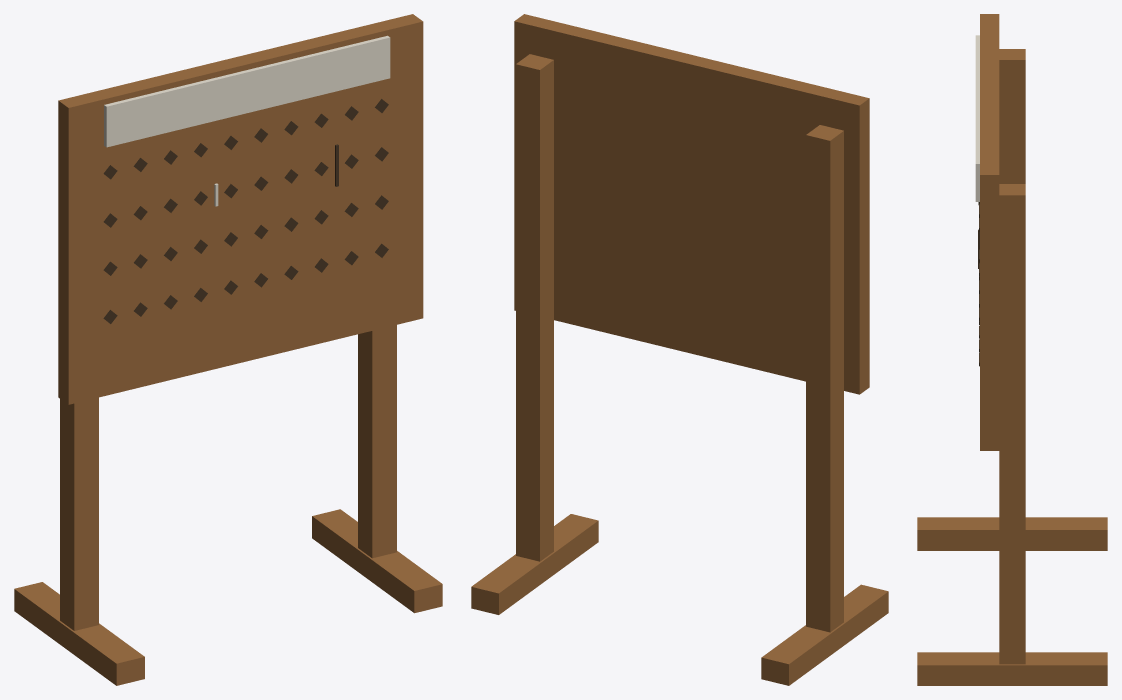
File: Prop_Census_Board_LOD1.glb
The picture shows the model from 3 angles, left to right: view 1: azimuth 30°, elevation 25°; view 2: azimuth 150°, elevation 25°; view 3: azimuth 270°, elevation 25°; orthographic projection. The views are drawn at different scales.
Visible parts, largest first — view 1: Prop_Census_Board; view 2: Prop_Census_Board; view 3: Prop_Census_Board.
Part boxes in pixels (x1,y1,x2,y2): Prop_Census_Board: [14, 14, 442, 685]; Prop_Census_Board: [471, 14, 888, 685]; Prop_Census_Board: [917, 14, 1107, 685].
Size of the model in its own units: 1 by 1.5 by 0.5.
